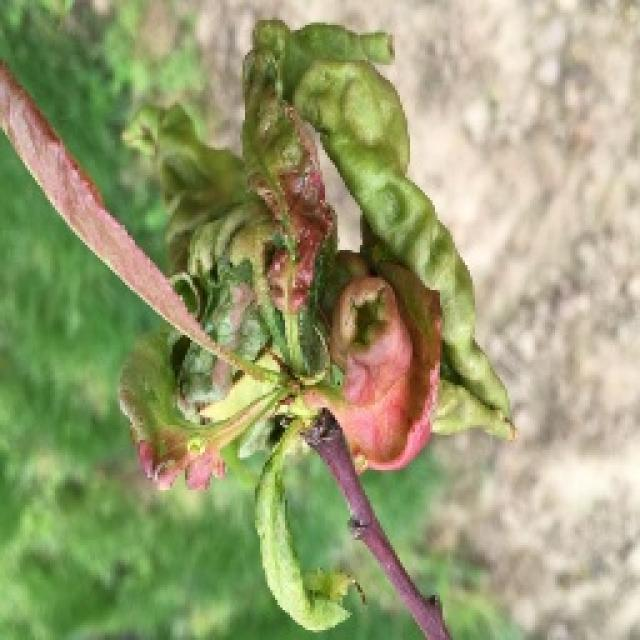peach_leaf_curl: (150, 22, 431, 475)
